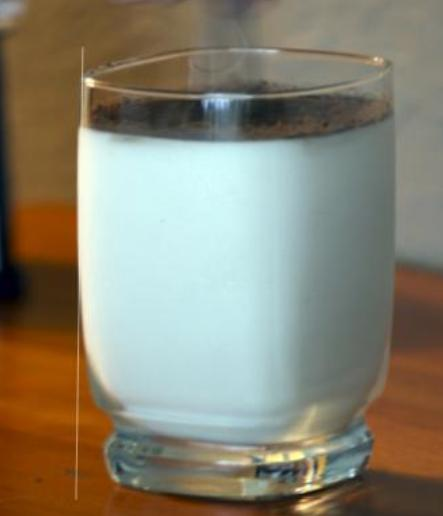produk_susu: (82, 44, 391, 486)
